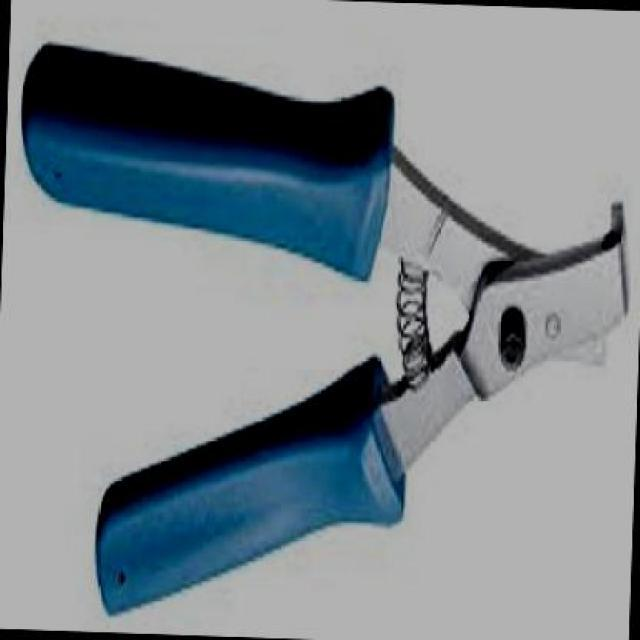pliers: (0, 36, 638, 638)
